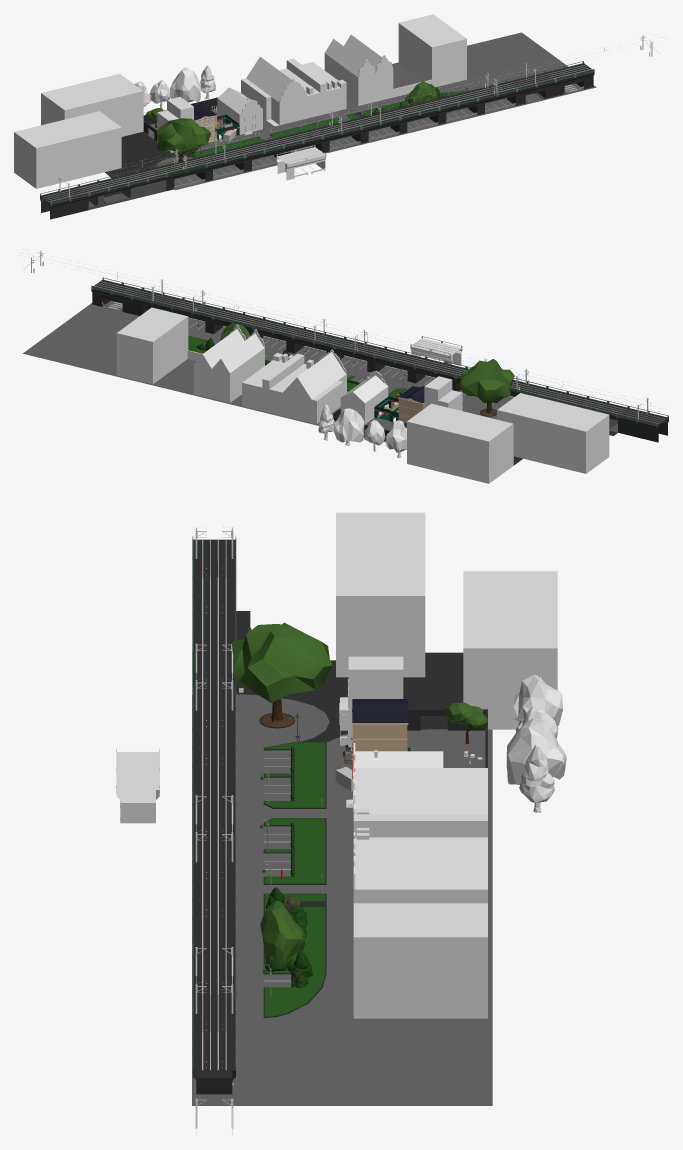
File: 00_Linz_am_Rhein.fbx
3 views of the same model, one above another, from view 1: azimuth 30°, elevation 25°; view 2: azimuth 150°, elevation 25°; view 3: azimuth 270°, elevation 25° (orthographic). The views are drawn at different scales.
Visible parts, largest first — view 1: Floor, Bridge_Aqueduct_PL4, HouseBlock.003, HouseBlock.002, HouseBlock.001, Road_AmGestade.001, Road_AmGestade.004, Road_Curb, ChestnutTree_23m, Bridge_Aqueduct_PL3.001, Bridge_Close, Bridge_Aqueduct_PL3_2 (+21 smaller); view 2: Floor, HouseBlock.002, HouseBlock.003, Bridge_Aqueduct_PL4, HouseBlock.001, Road_AmGestade.001, Road_AmGestade.004, ChestnutTree_23m, Road_AmGestade.003, Bridge_Close, Bridge_Crosswalk, Bridge_Aqueduct_PL3.001 (+15 smaller); view 3: Floor, HouseBlock.001, HouseBlock.003, Bridge_Aqueduct_PL4, HouseBlock.002, Road_AmGestade.003, ChestnutTree_23m, Road_Curb, Road_AmGestade.009, AmGestade7-8_ParkingLots_GreenArea, Road_AmGestade.001, Bridge_Aqueduct_PL3.001 (+19 smaller).
Boxes of the visible parts, x1=… form: Floor: x1=143, y1=32, x2=596, y2=190; Bridge_Aqueduct_PL4: x1=195, y1=80, x2=516, y2=181; HouseBlock.003: x1=14, y1=111, x2=121, y2=188; HouseBlock.002: x1=41, y1=74, x2=143, y2=136; HouseBlock.001: x1=398, y1=14, x2=466, y2=87; Road_AmGestade.001: x1=241, y1=58, x2=346, y2=126; Road_AmGestade.004: x1=324, y1=53, x2=431, y2=105; Road_Curb: x1=88, y1=132, x2=194, y2=200; ChestnutTree_23m: x1=156, y1=118, x2=210, y2=161; Bridge_Aqueduct_PL3.001: x1=79, y1=165, x2=167, y2=198; Bridge_Close: x1=40, y1=184, x2=89, y2=219; Bridge_Aqueduct_PL3_2: x1=276, y1=145, x2=326, y2=180; Floor: x1=23, y1=300, x2=513, y2=442; HouseBlock.002: x1=407, y1=403, x2=513, y2=483; HouseBlock.003: x1=497, y1=393, x2=609, y2=473; Bridge_Aqueduct_PL4: x1=172, y1=297, x2=496, y2=402; HouseBlock.001: x1=116, y1=307, x2=188, y2=383; Road_AmGestade.001: x1=242, y1=353, x2=346, y2=424; Road_AmGestade.004: x1=187, y1=348, x2=264, y2=402; ChestnutTree_23m: x1=460, y1=359, x2=514, y2=413; Road_AmGestade.003: x1=283, y1=352, x2=346, y2=399; Bridge_Close: x1=617, y1=406, x2=668, y2=442; Bridge_Crosswalk: x1=91, y1=277, x2=142, y2=314; Bridge_Aqueduct_PL3.001: x1=536, y1=386, x2=628, y2=420; Floor: x1=192, y1=694, x2=492, y2=1105; HouseBlock.001: x1=353, y1=903, x2=487, y2=1018; HouseBlock.003: x1=336, y1=512, x2=425, y2=677; Bridge_Aqueduct_PL4: x1=192, y1=687, x2=236, y2=994; HouseBlock.002: x1=463, y1=571, x2=557, y2=729; Road_AmGestade.003: x1=355, y1=768, x2=487, y2=814; ChestnutTree_23m: x1=231, y1=622, x2=332, y2=722; Road_Curb: x1=236, y1=611, x2=463, y2=742; Road_AmGestade.009: x1=355, y1=856, x2=487, y2=889; AmGestade7-8_ParkingLots_GreenArea: x1=263, y1=893, x2=326, y2=1017; Road_AmGestade.001: x1=353, y1=808, x2=487, y2=839; Bridge_Aqueduct_PL3.001: x1=192, y1=574, x2=236, y2=653.
Bounding box in the file's own units: 320 × 23.48 × 100.
